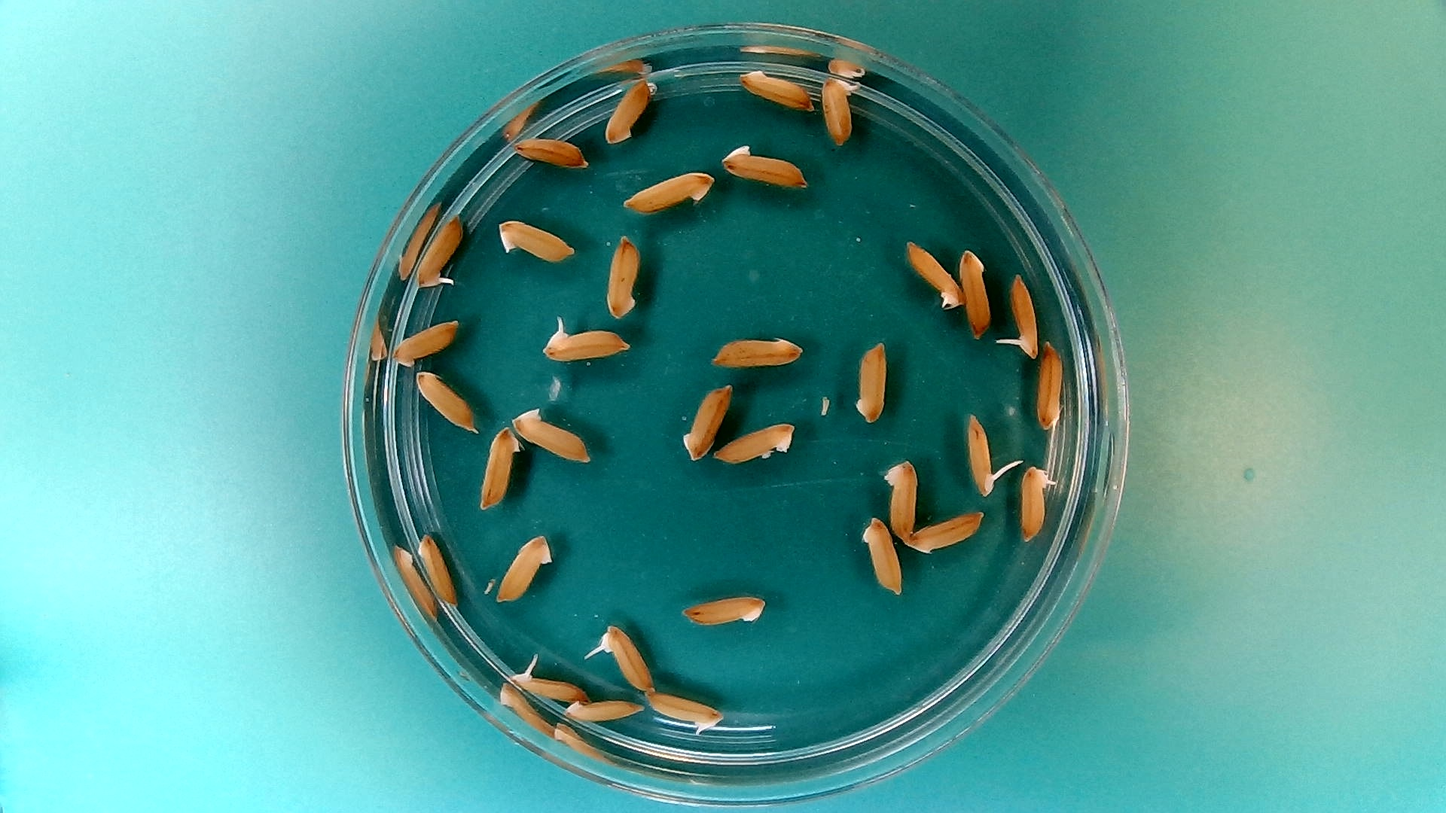no: (618, 166, 718, 214), (493, 528, 554, 605), (512, 406, 593, 463), (720, 141, 810, 191), (600, 73, 658, 146), (414, 368, 478, 434), (388, 315, 463, 370), (493, 215, 578, 263), (706, 330, 805, 371), (683, 385, 733, 462), (602, 230, 644, 321), (907, 508, 986, 556), (735, 65, 816, 111), (712, 422, 793, 466), (859, 517, 904, 596), (679, 589, 770, 628), (957, 244, 994, 339), (509, 128, 589, 171), (416, 531, 459, 610), (882, 455, 921, 540), (480, 428, 520, 510), (853, 336, 889, 426), (1033, 337, 1064, 434), (563, 697, 645, 723)
yes: (905, 235, 964, 311), (598, 625, 657, 692), (535, 324, 635, 363), (412, 214, 462, 291), (646, 688, 722, 734), (1017, 461, 1057, 544), (506, 669, 585, 705), (819, 74, 859, 144), (1010, 272, 1043, 356), (964, 410, 996, 496)
